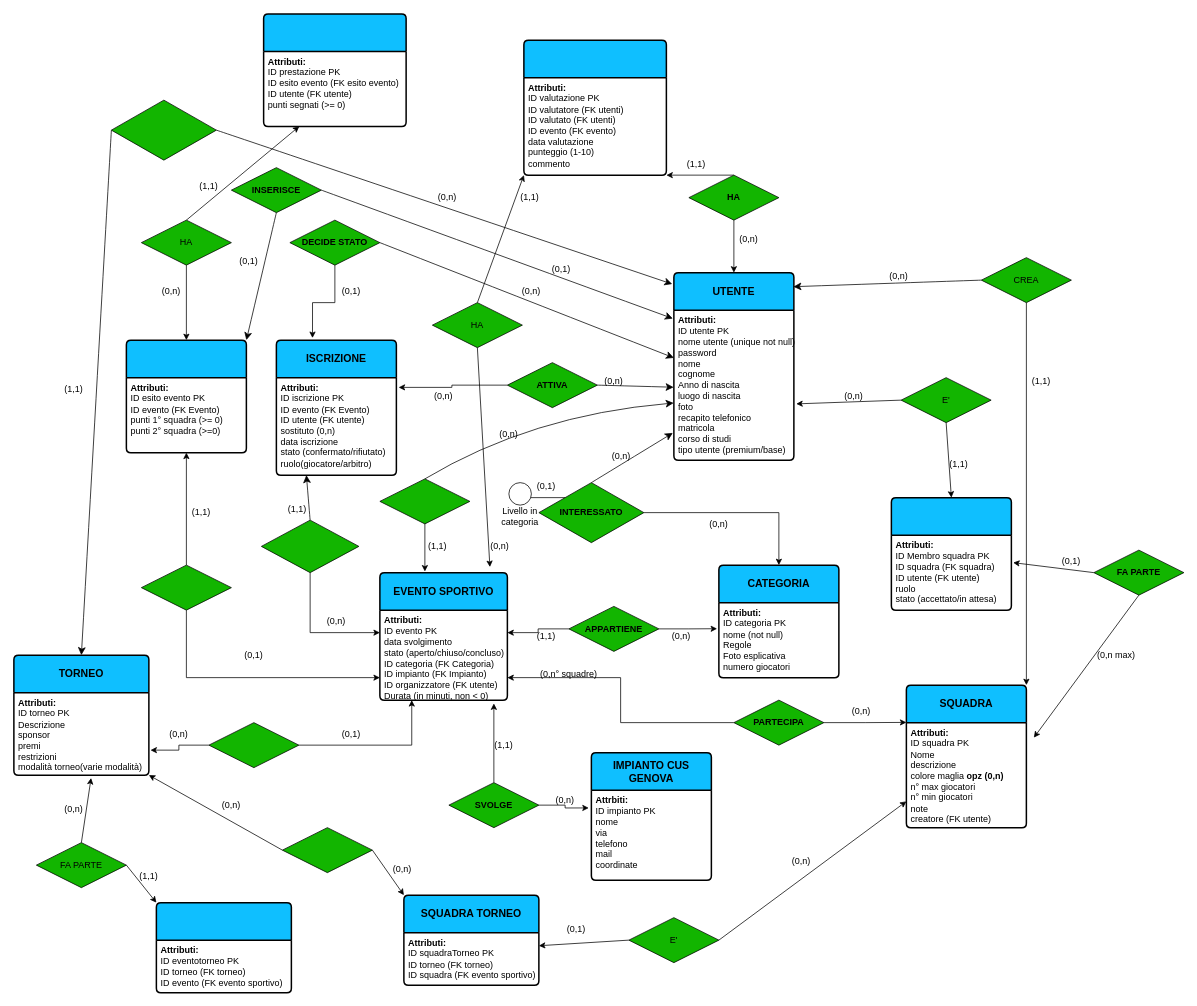
This 1197x1006 diagram has some shape labels left out. The shapes that lost their labels are listed below. From the top down, each one's box as (x1, y1, x2, y2) in pixels, then its label:
(262, 13, 406, 127): PRESTAZIONE GIOCATORE
(523, 39, 667, 176): VALUTAZIONI
(111, 99, 216, 160): CREA TORNEO
(125, 339, 247, 453): ESITO EVENTO SPORTIVO
(379, 478, 470, 524): ORGANIZZA
(261, 519, 359, 573): PARTECIPAZIONE
(890, 496, 1012, 610): MEMBRI SQUADRA
(141, 564, 231, 610): HA RISULTATO
(208, 722, 299, 768): FORMA
(282, 827, 372, 873): INCLUDE
(155, 902, 292, 993): EVENTI TORNEO
